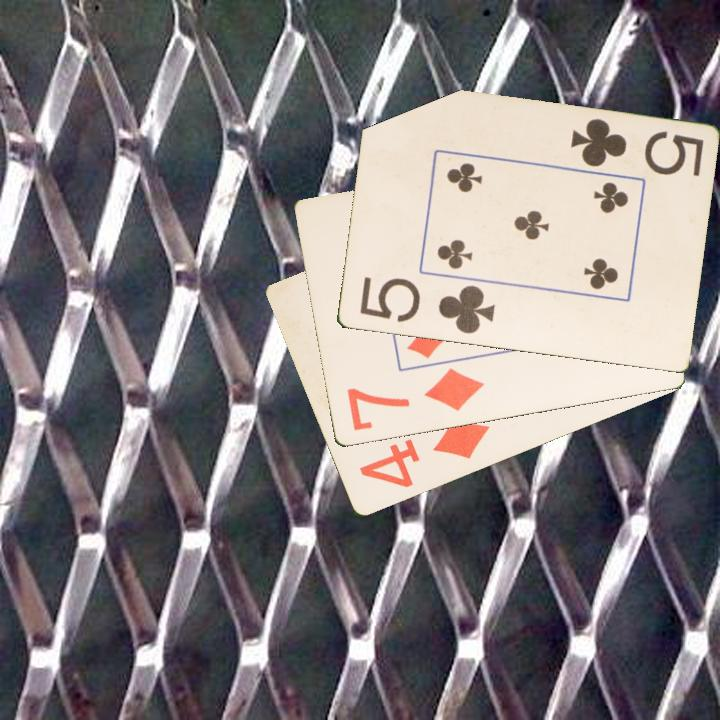4d: (355, 415, 493, 492)
5c: (567, 115, 706, 180), (356, 274, 498, 337)
7d: (343, 365, 487, 435)
